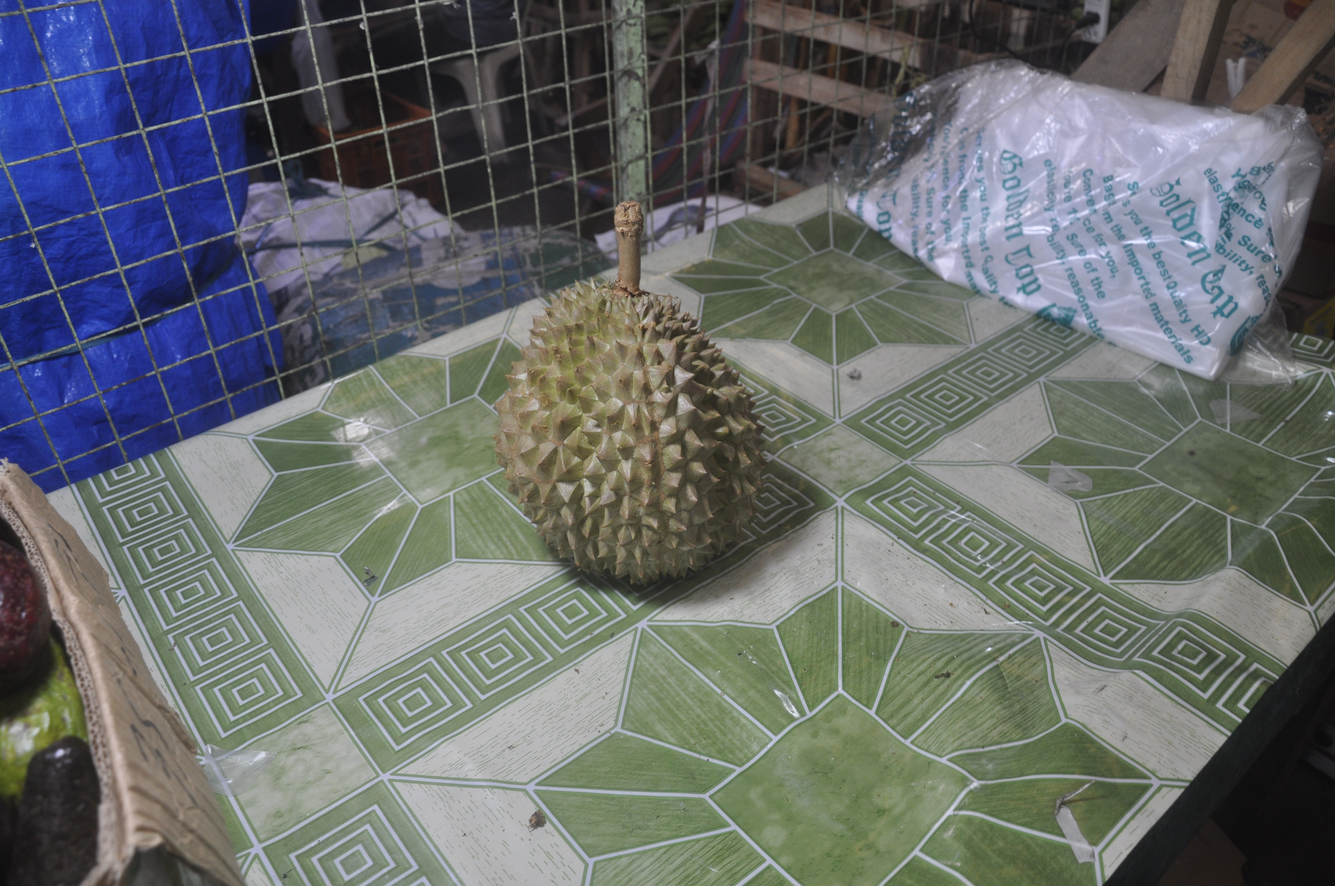mature: (495, 282, 765, 586)
